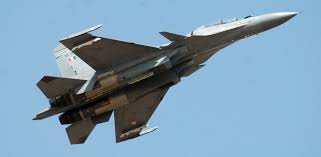maybay_muctieu: (35, 11, 294, 154)
